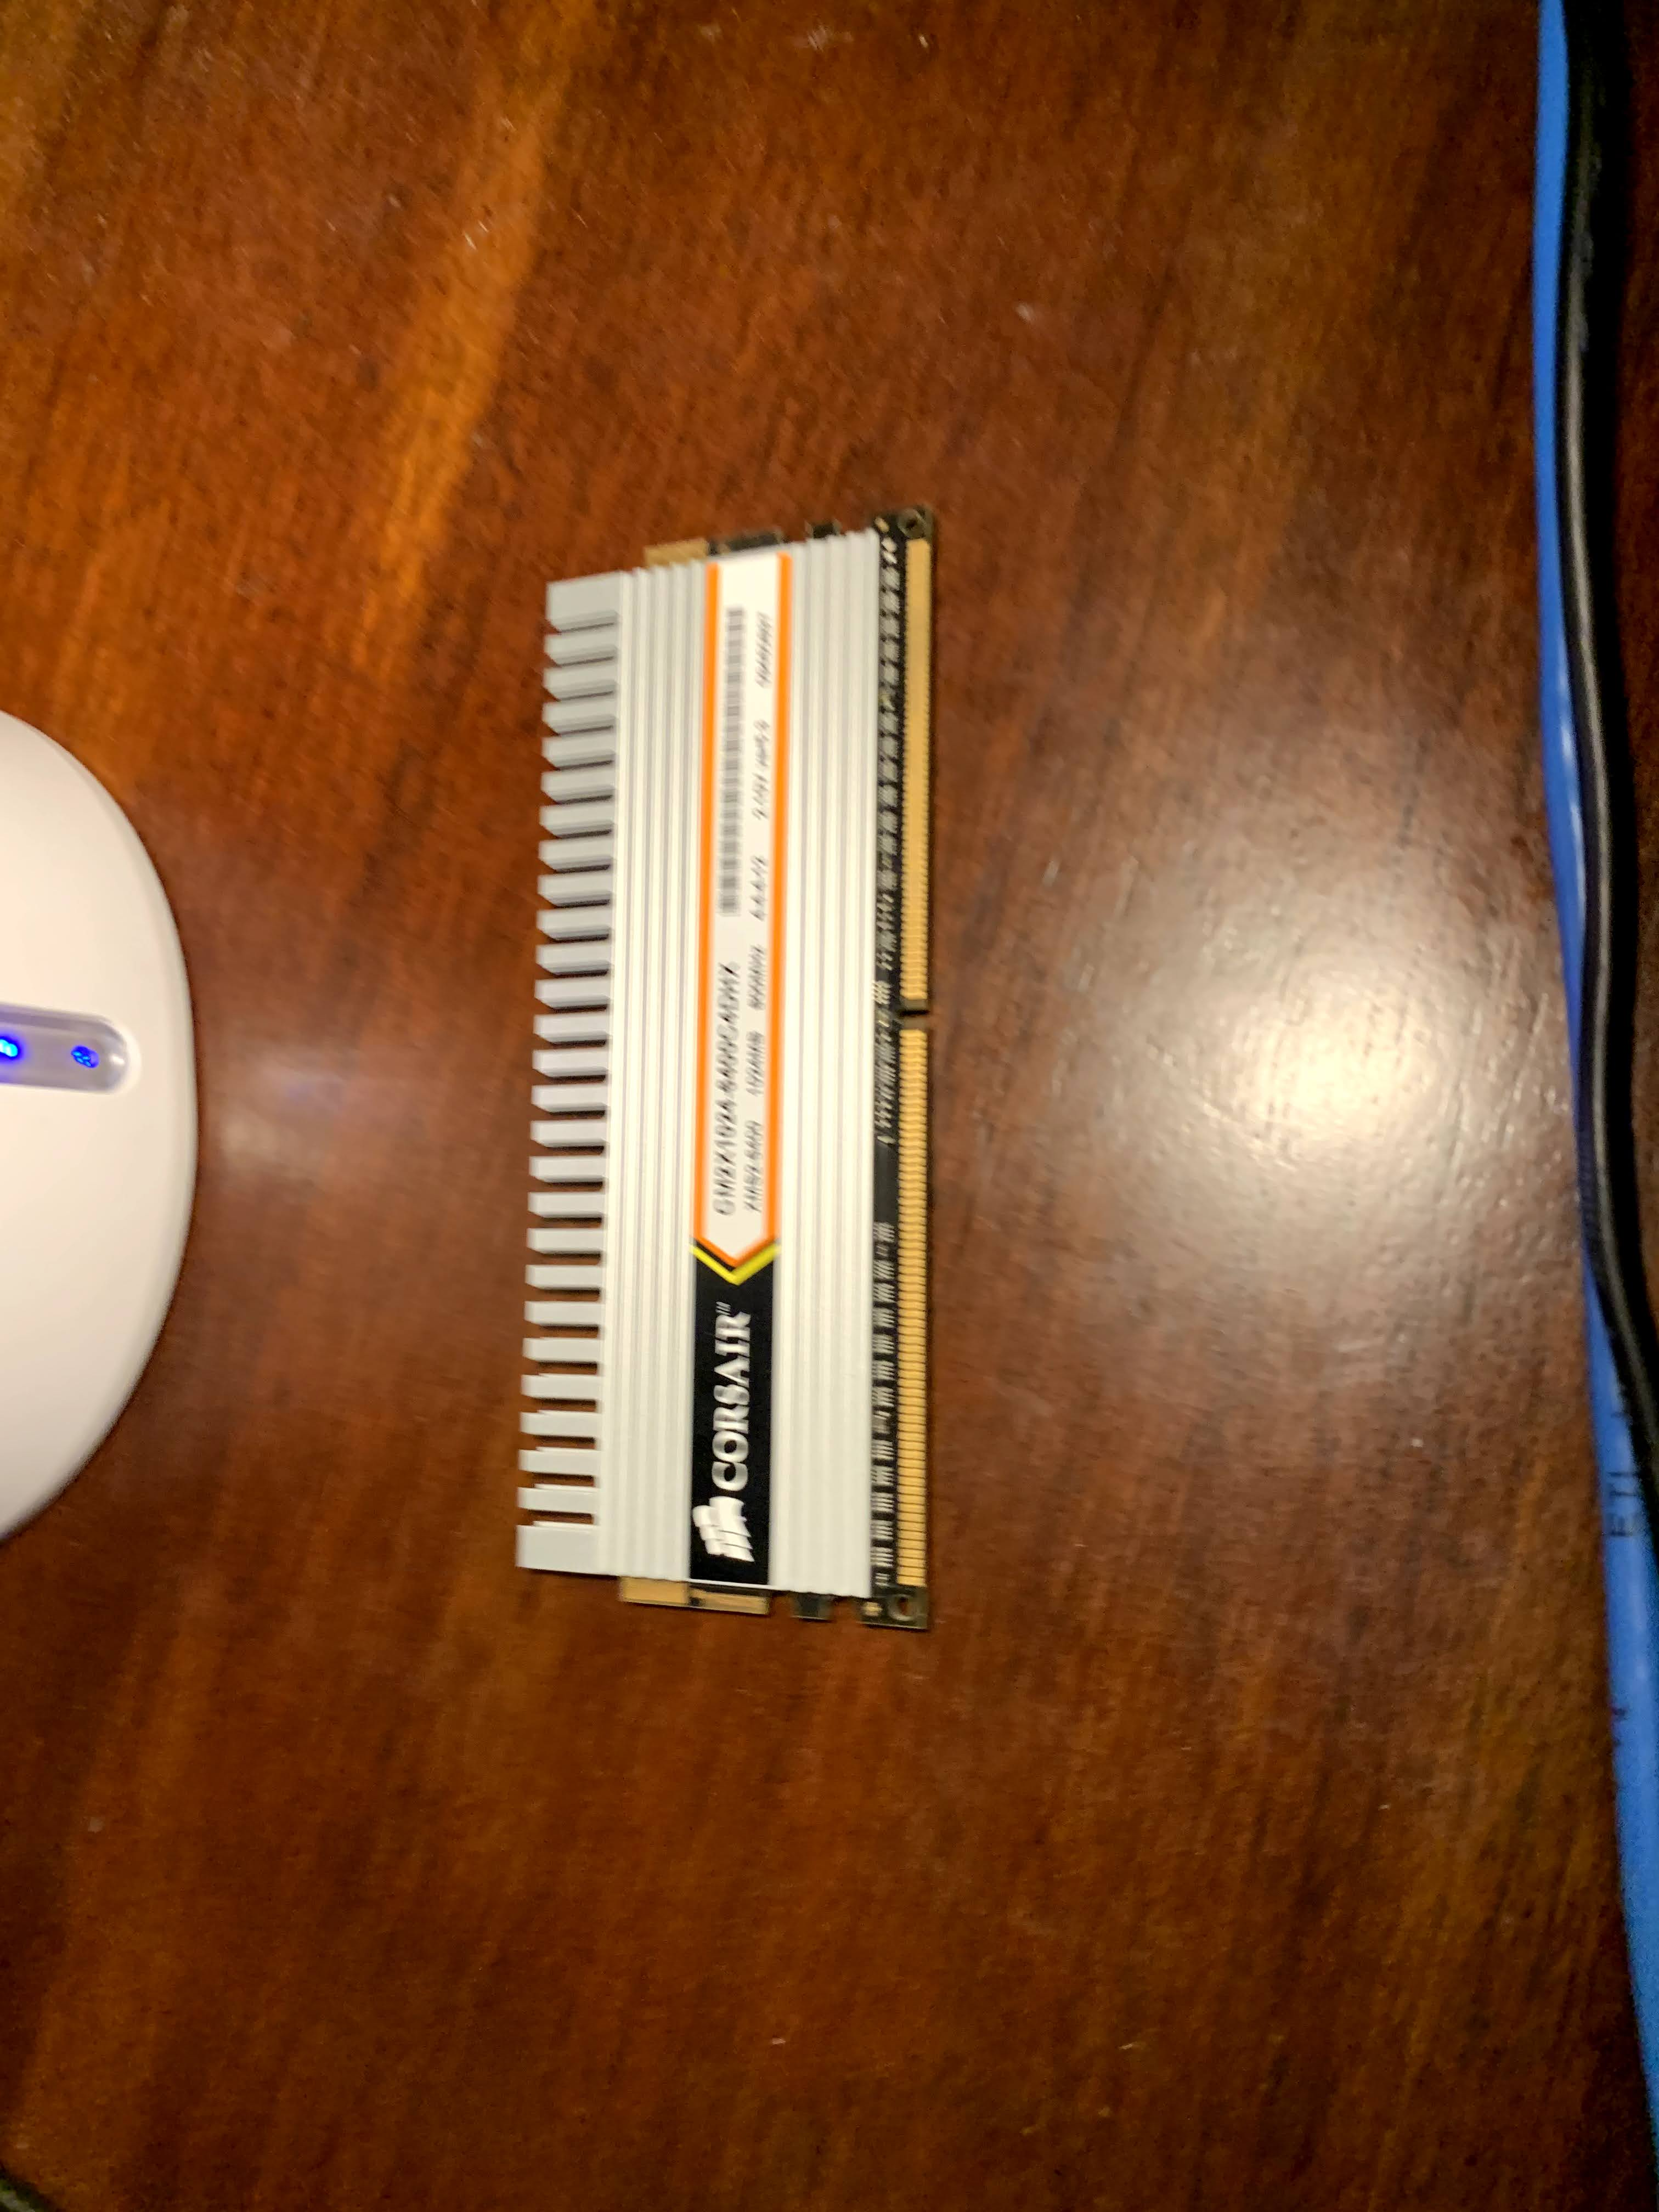Space-debris-medium: (469, 495, 981, 1667)
